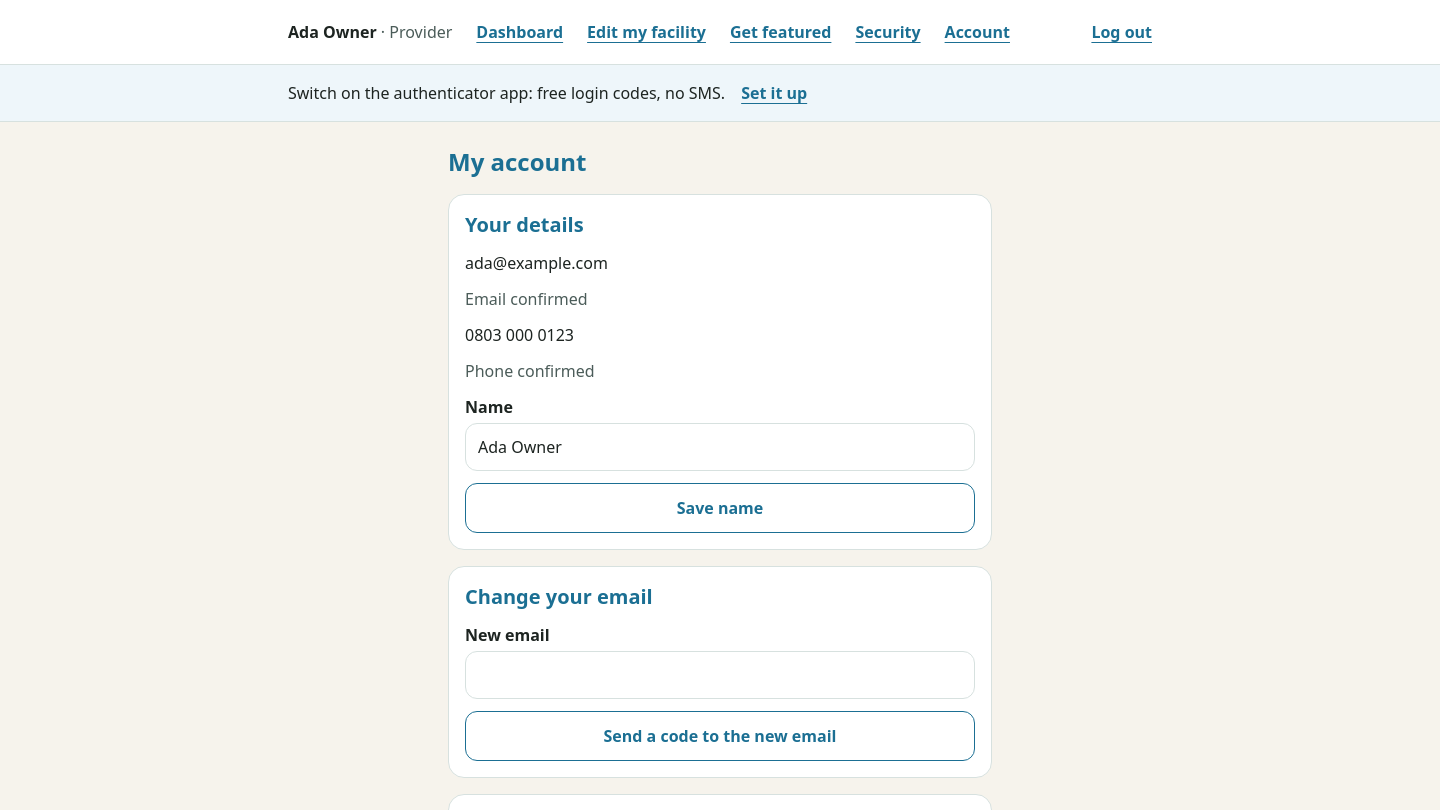
Test: your details › saves a new name and says so
Expected: the heading "My account" is shown, [448, 145, 586, 178]
Replace the text in the field labelled "Name" with "  Ada Okafor " at (720, 447), box [465, 423, 975, 471]
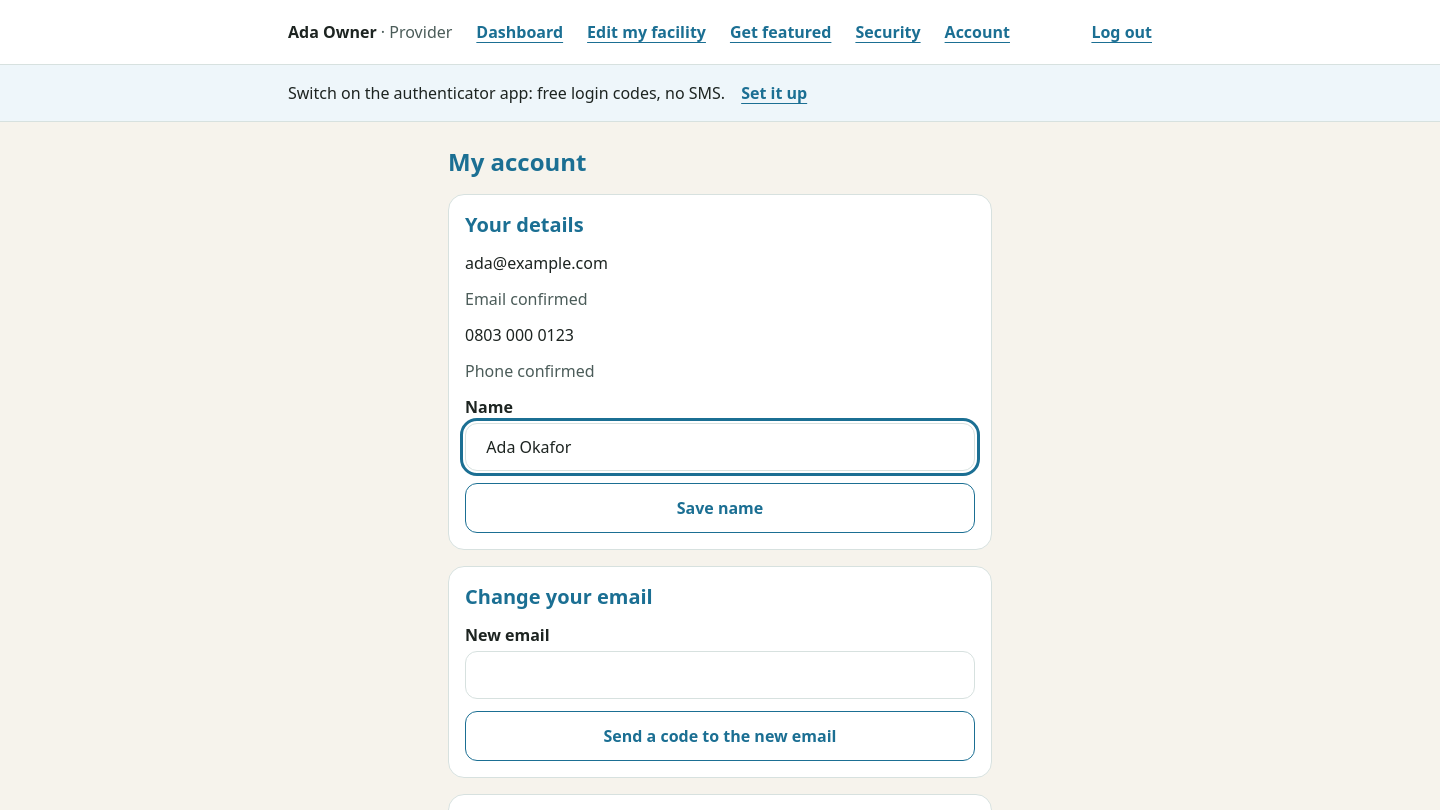
Click the button "Save name" at (720, 508), box [465, 483, 975, 533]
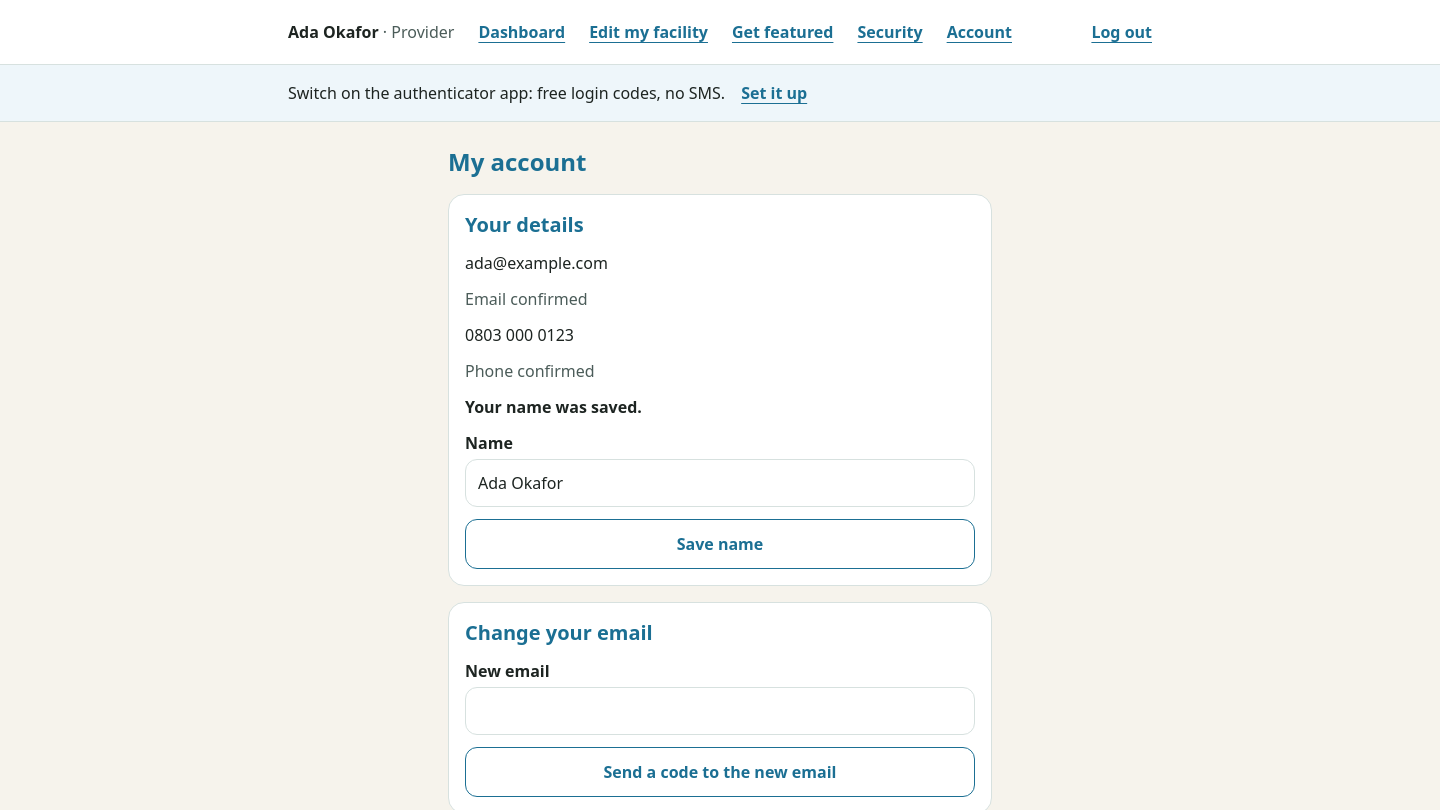
Result: the text "Your name was saved." is shown at [465, 396, 642, 418]
